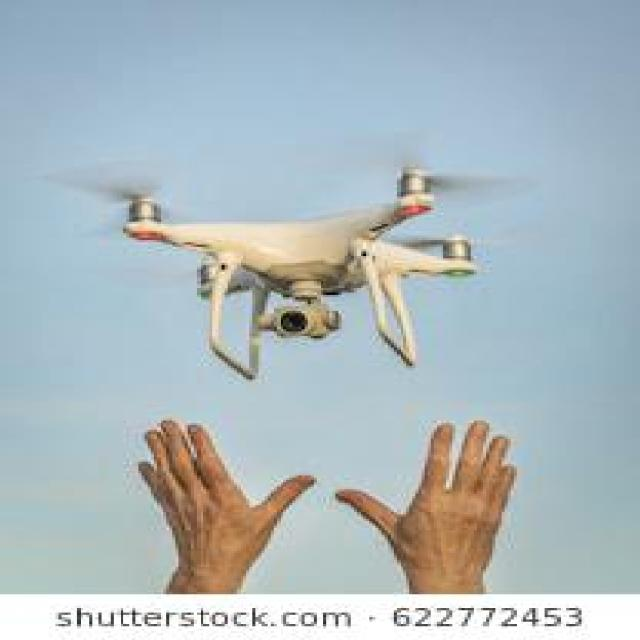drone: (0, 114, 569, 396)
